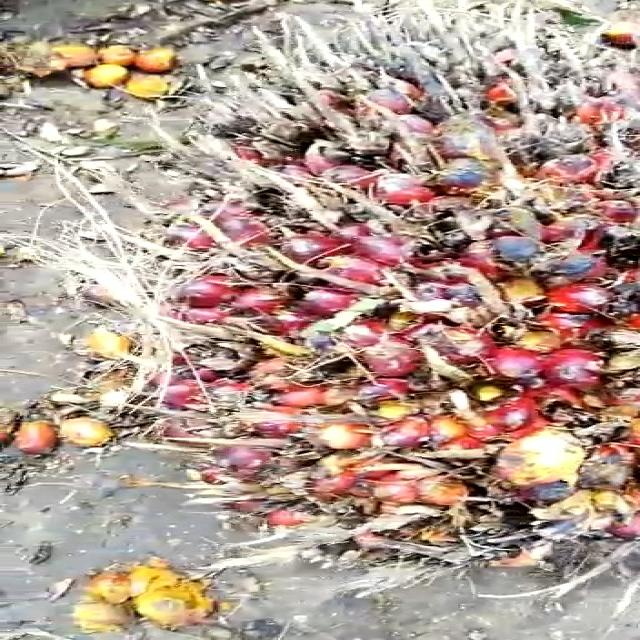palm oil: (106, 30, 640, 581)
